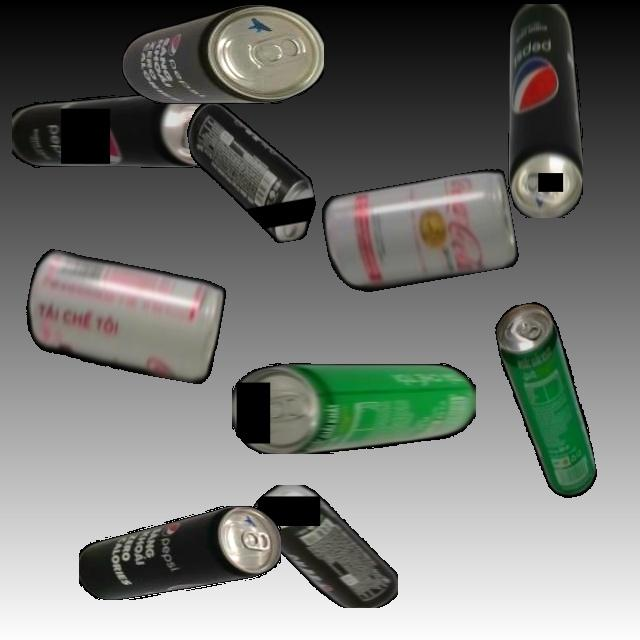debris: (19, 247, 228, 386), (319, 167, 520, 297), (183, 88, 321, 255), (492, 297, 600, 505), (232, 362, 476, 454), (121, 4, 324, 104), (78, 506, 281, 600), (249, 485, 398, 608), (11, 92, 226, 168), (507, 3, 583, 218)
